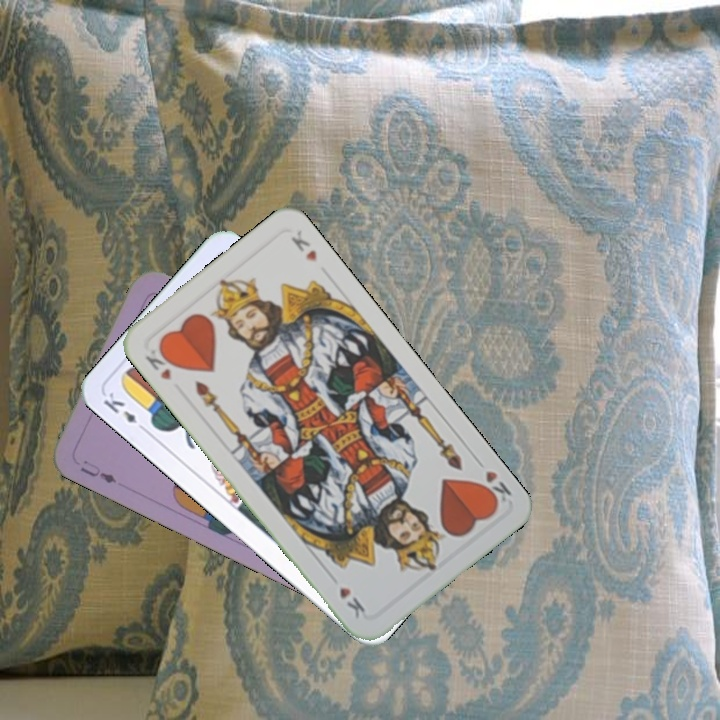EK: (99, 388, 150, 435)
EU: (76, 456, 120, 486)
HK: (471, 453, 514, 510), (141, 340, 179, 383)
